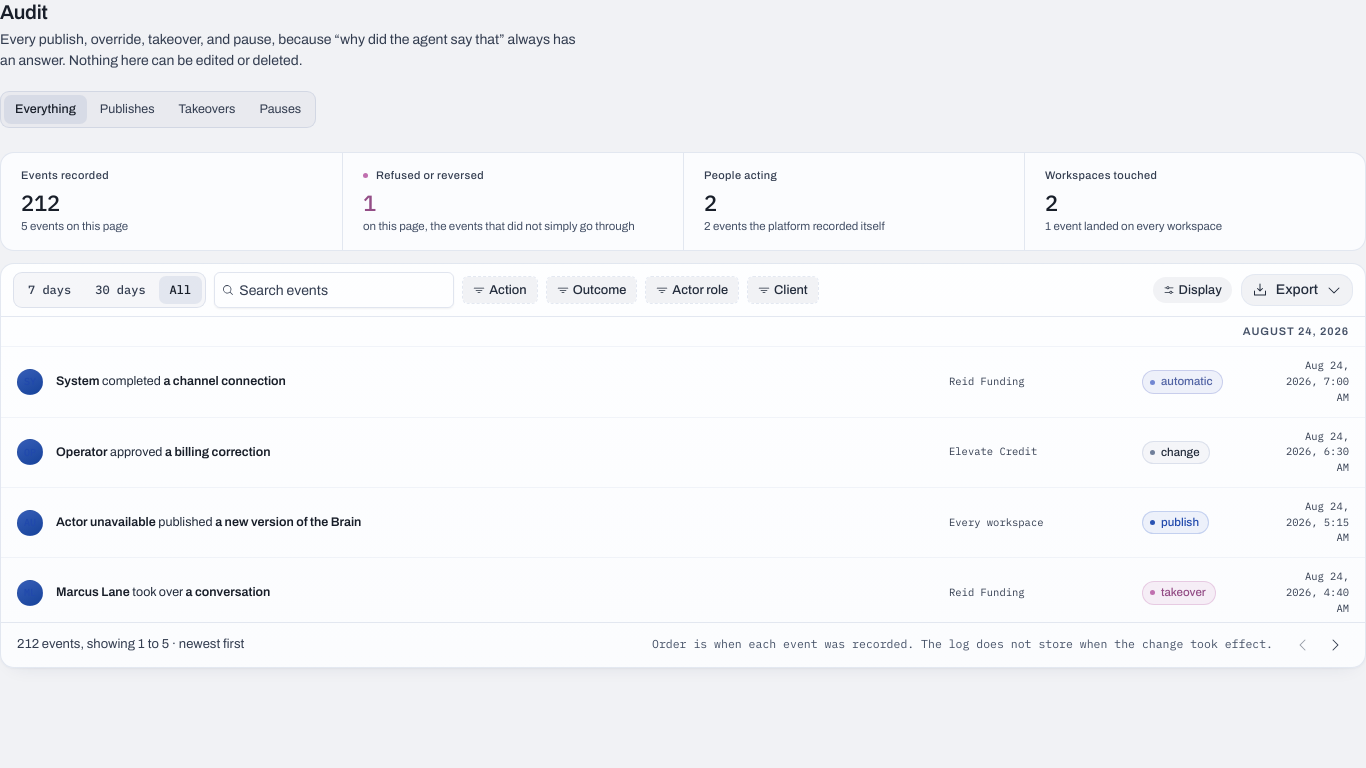
AdminAuditLog craft › says an unreadable live count in words rather than printing zero
The image size is (1366, 768).
Step 1. Click the button with aria-label "Open event detail: Published a new version of the Brain" → point(106, 522), box [1, 488, 1365, 558]
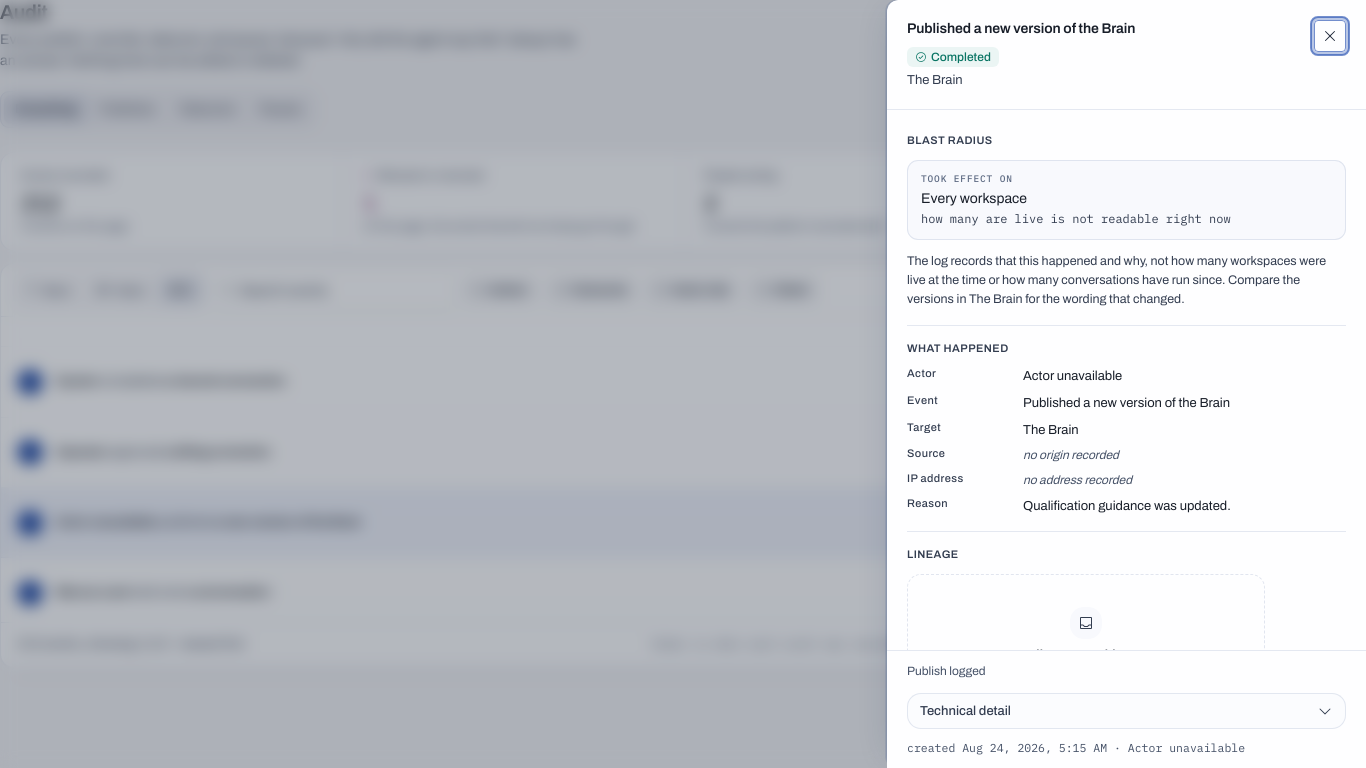
Check: the text "how many are live is not readable right now" is shown, box [921, 211, 1231, 226]
